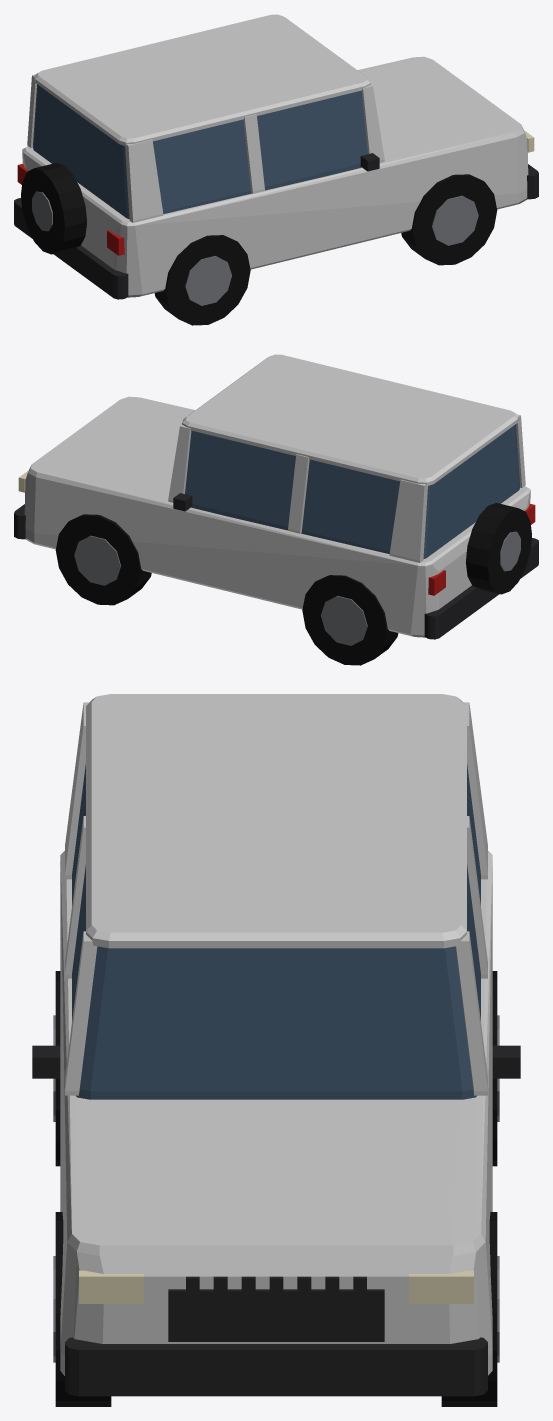
The model's file is car_jeep.obj.
3 views of the same model, one above another, from view 1: azimuth 30°, elevation 25°; view 2: azimuth 150°, elevation 25°; view 3: azimuth 270°, elevation 25° (orthographic). The views are drawn at different scales.
Size of the model in its own units: 4.44 by 1.86 by 2.1.
